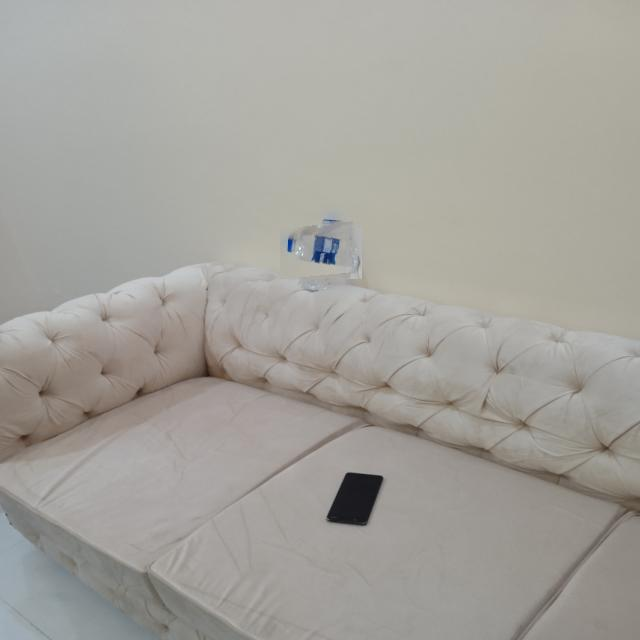Plastic: (288, 220, 354, 286)
